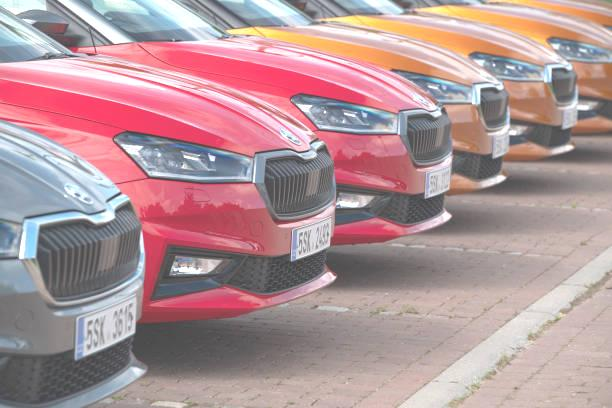skoda: (59, 178, 110, 207), (274, 124, 309, 150)
